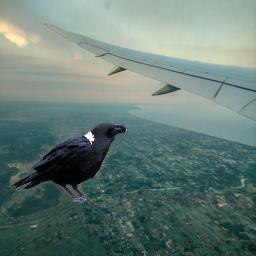Crow: (10, 123, 128, 208)
